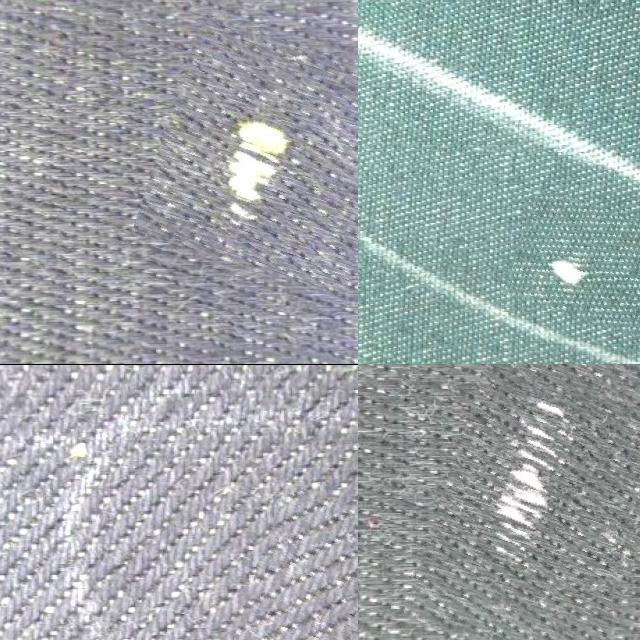stains: (427, 364, 640, 640), (147, 28, 358, 284), (191, 491, 358, 640), (509, 196, 640, 327)
